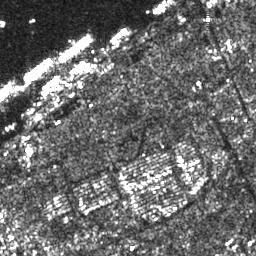ship: (56, 34, 92, 61), (18, 56, 51, 81), (110, 27, 128, 44), (26, 17, 37, 24)
